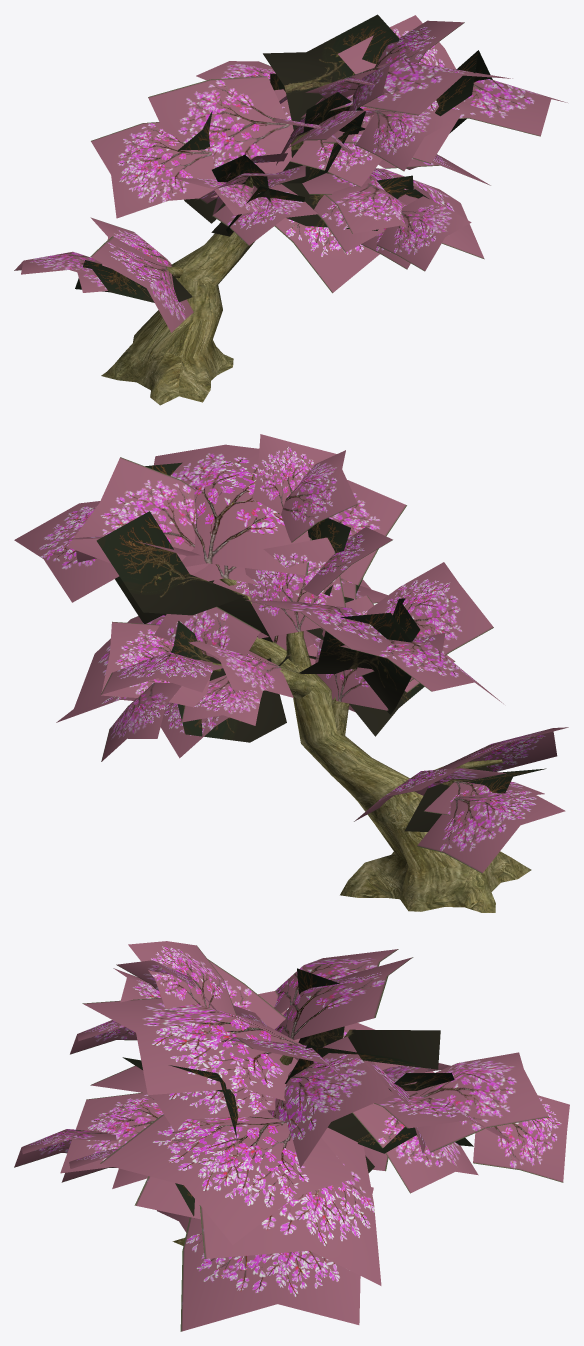
File: Scene_Tree_HongShu_3.FBX
3 renders of one model, top to bottom at view 1: azimuth 30°, elevation 25°; view 2: azimuth 150°, elevation 25°; view 3: azimuth 270°, elevation 25°, orthographic. The views are drawn at different scales.
Parts seen in each view (by area): view 1: Scene_Tree_HongShu_3b, Scene_Tree_HongShu_3a; view 2: Scene_Tree_HongShu_3b, Scene_Tree_HongShu_3a; view 3: Scene_Tree_HongShu_3b.
Boxes of the visible parts, x1,y1,x2,y2 form: Scene_Tree_HongShu_3b: (14, 14, 567, 332); Scene_Tree_HongShu_3a: (101, 132, 308, 405); Scene_Tree_HongShu_3b: (14, 434, 568, 873); Scene_Tree_HongShu_3a: (212, 578, 531, 912); Scene_Tree_HongShu_3b: (14, 941, 569, 1331).
Bounding box in the file's own units: 1257 × 716 × 891.
